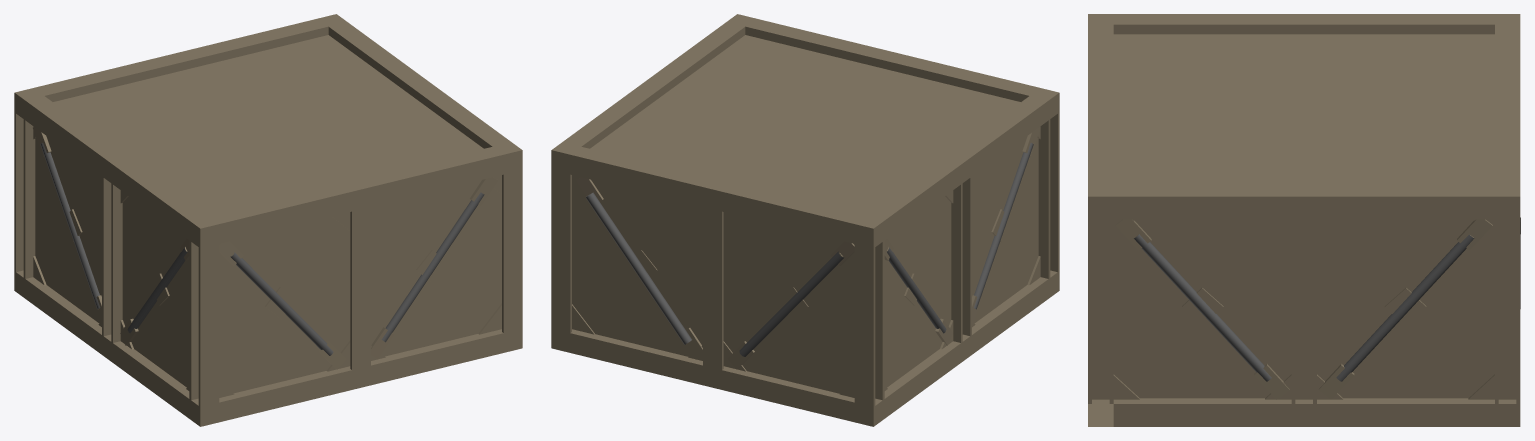
File: kahvekutu.fbx
3 renders of one model, left to right at view 1: azimuth 30°, elevation 25°; view 2: azimuth 150°, elevation 25°; view 3: azimuth 270°, elevation 25°, orthographic. The views are drawn at different scales.
Visible parts, largest first — view 1: polySurface266; view 2: polySurface266; view 3: polySurface266.
Boxes of the visible parts, <box> form: polySurface266: <box>14,14,522,426</box>; polySurface266: <box>551,14,1059,426</box>; polySurface266: <box>1088,14,1520,426</box>.
Size of the model in its own units: 1700 by 1000 by 1702.
